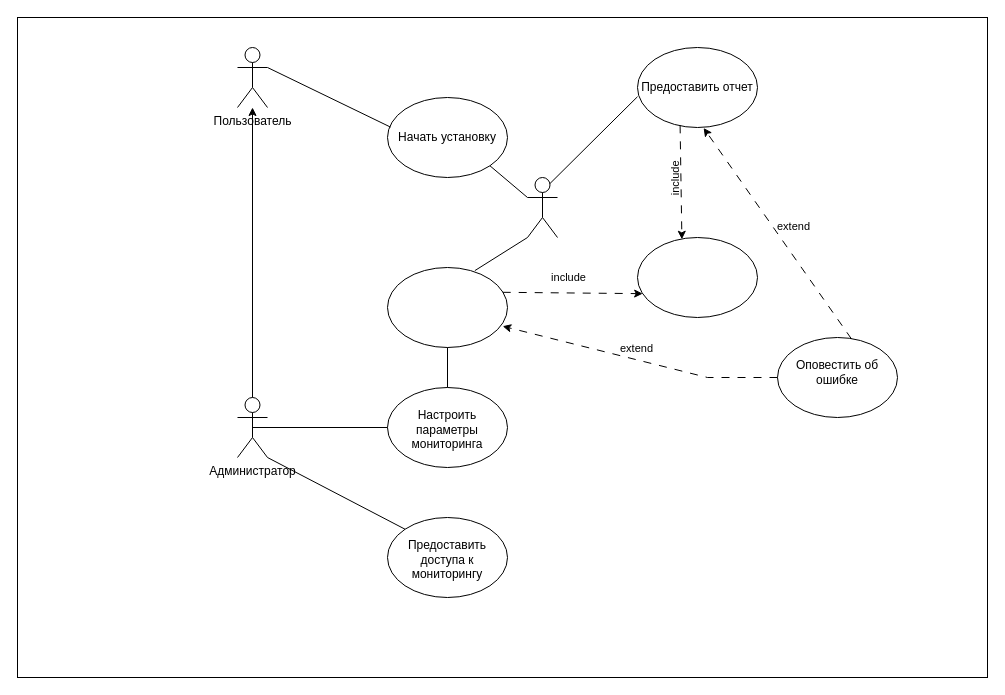
Some shapes in this 1005 by 695 pixel diagram are drawn without their labels. Here are the shapes that lost their labels. From the top down, the box of each, then its label:
(526, 176, 558, 238): Мониторинг
(636, 236, 758, 318): Анализировать данные мониторинга
(386, 266, 508, 348): Отобразить статус установки
